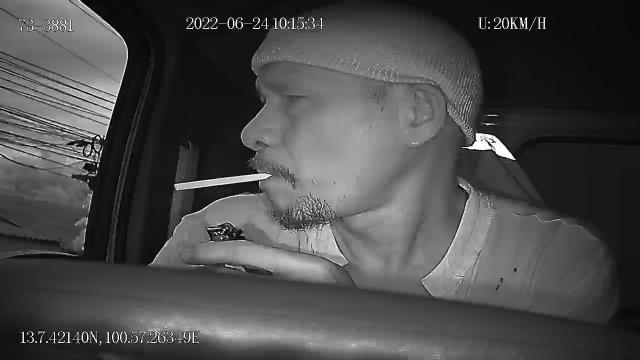Smoking: (170, 169, 274, 191)
